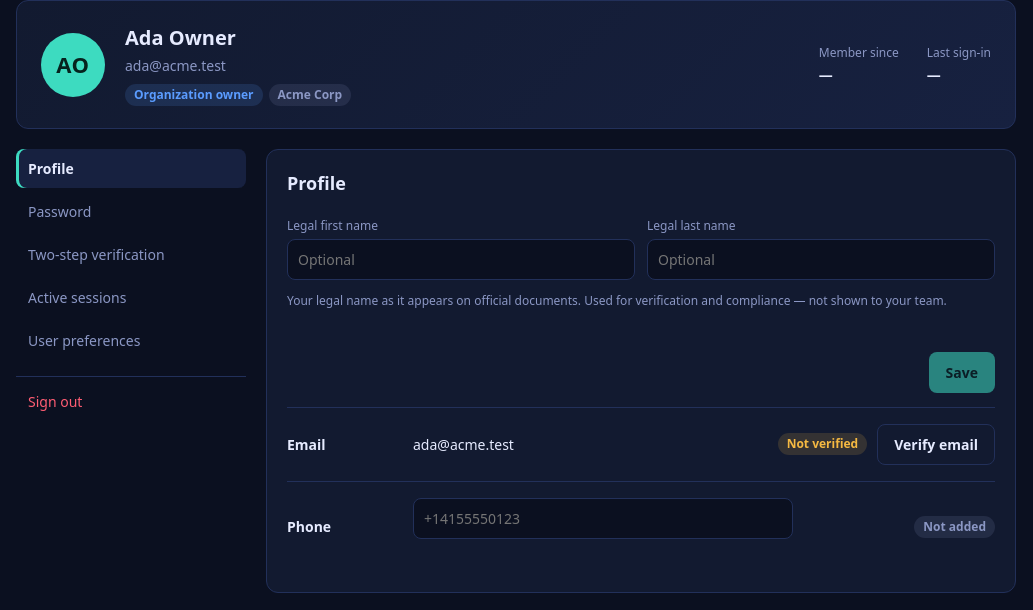
AccountPage › shows the selected section on the right and keeps the choice in the address
Expected: the field labelled "Legal first name" is shown, [287,239,635,280]
Click the tab "Password" at (131, 212), box [16,192,246,231]
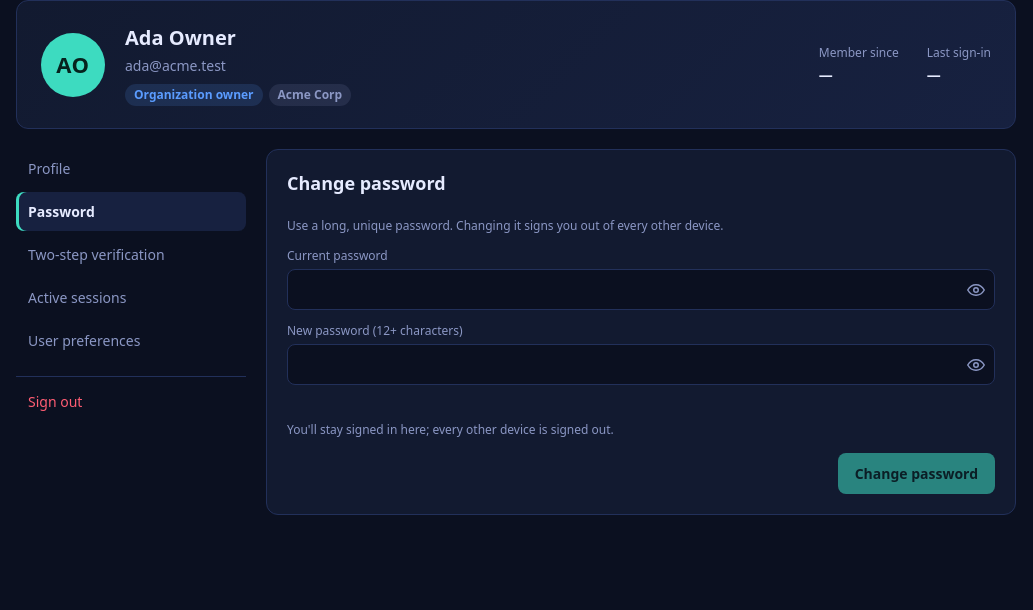
Now the button "Change password" is shown, box [838,453,995,494]
Now the label labelled "Legal first name" is gone
